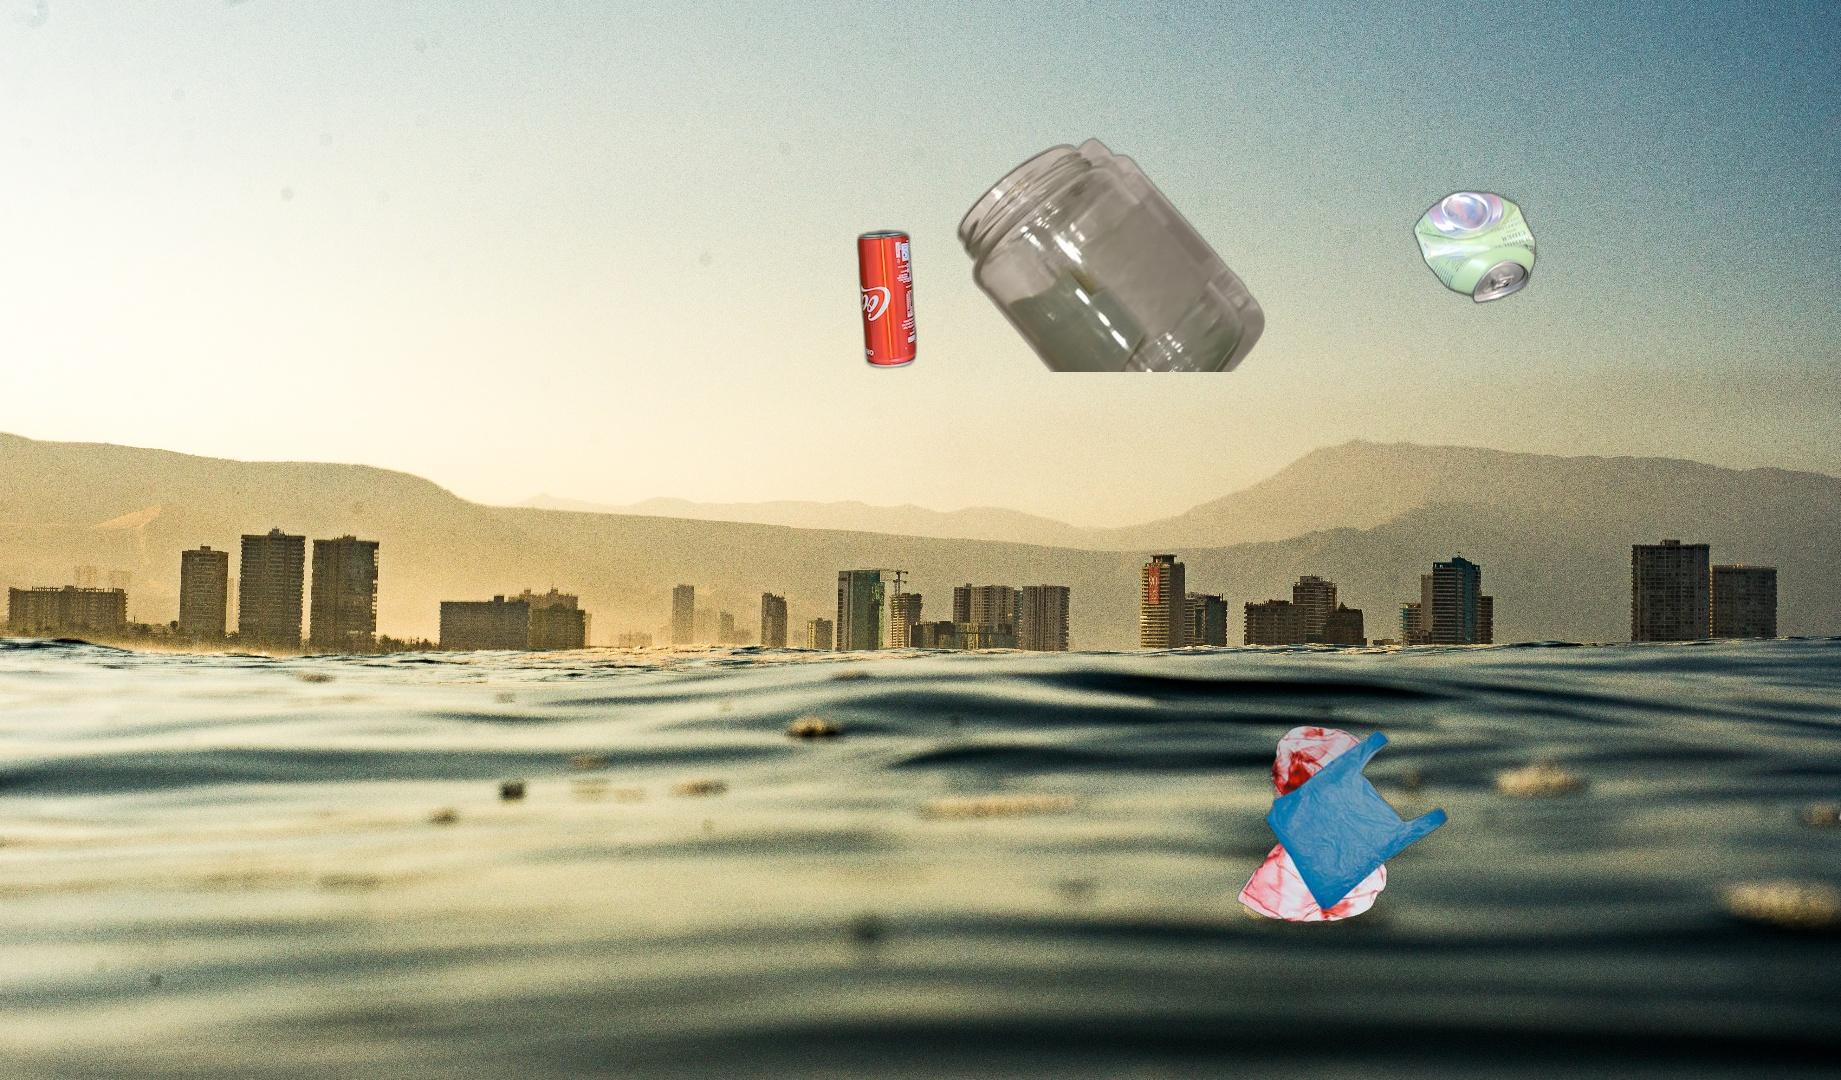glass: (953, 135, 1269, 372)
metal-cans: (1057, 185, 1568, 586), (852, 225, 921, 374)
paper: (1835, 730, 1841, 915)
plastic-bag: (1234, 724, 1449, 924)
